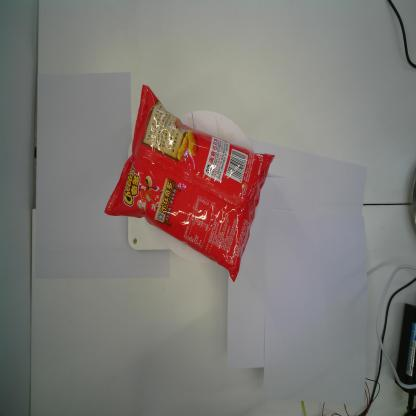Puffed Food: (104, 82, 274, 286)
